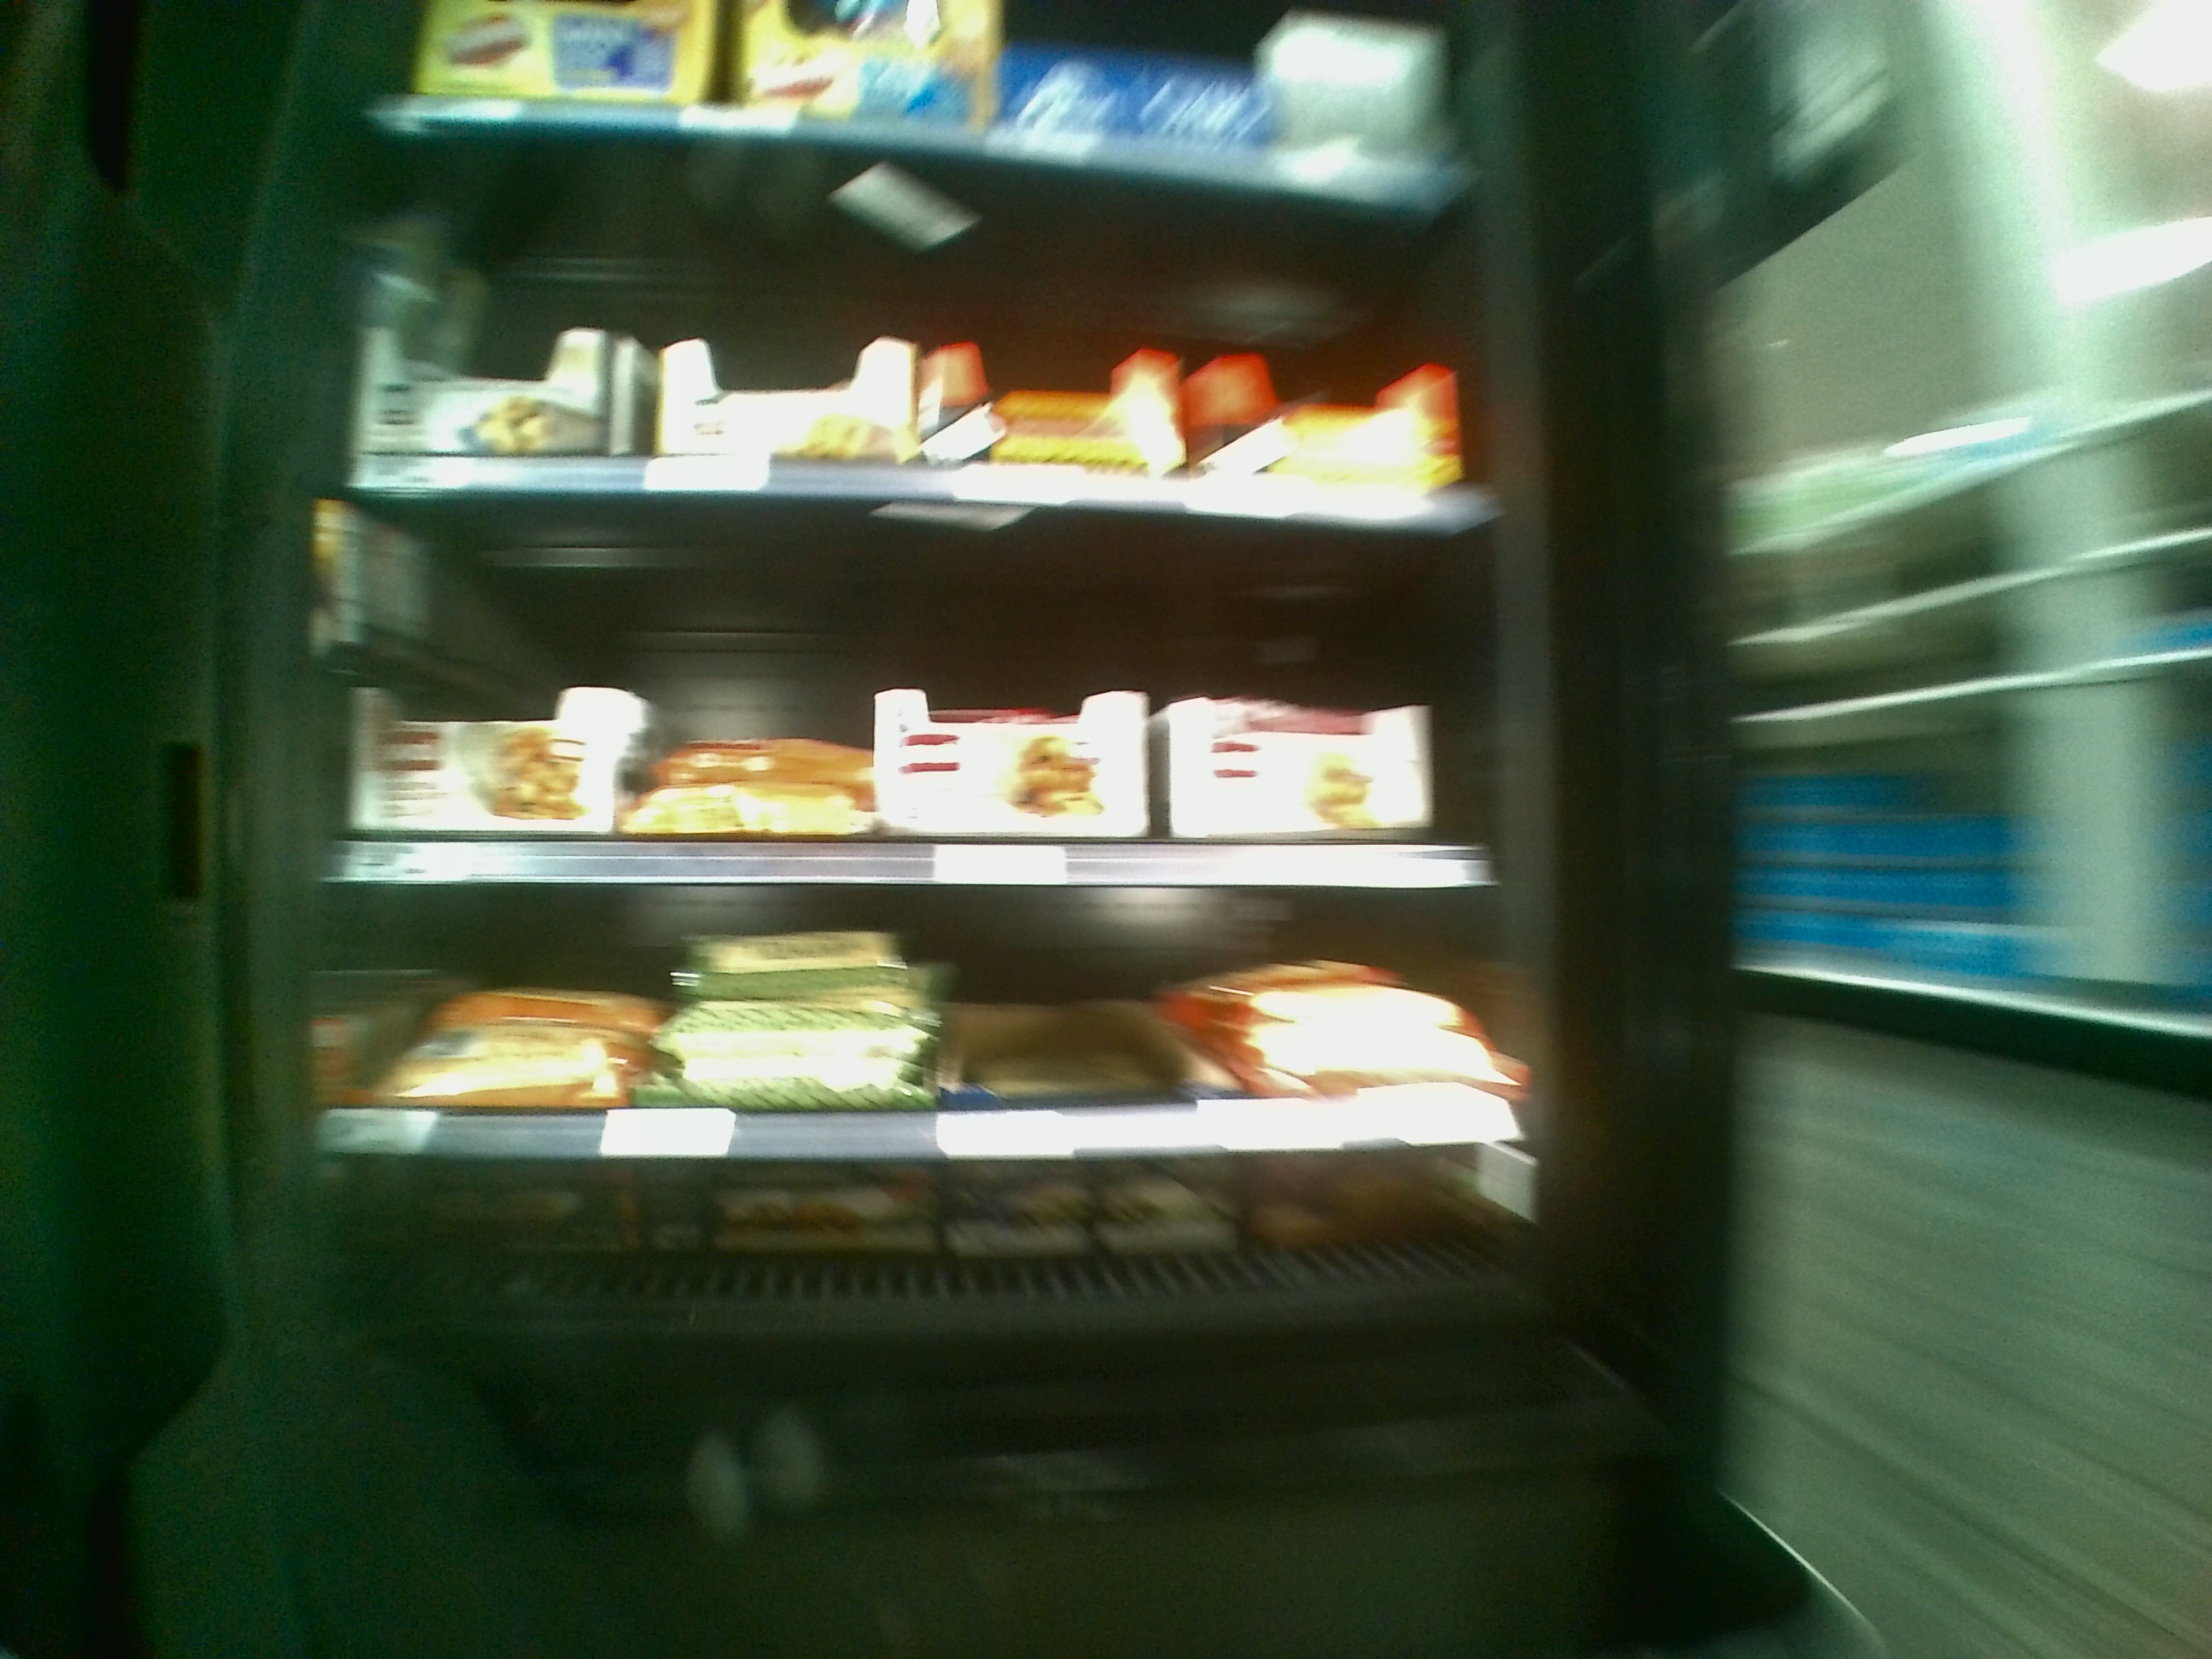shelf: (315, 896, 1510, 1276), (319, 502, 1491, 884), (352, 153, 1463, 521)
